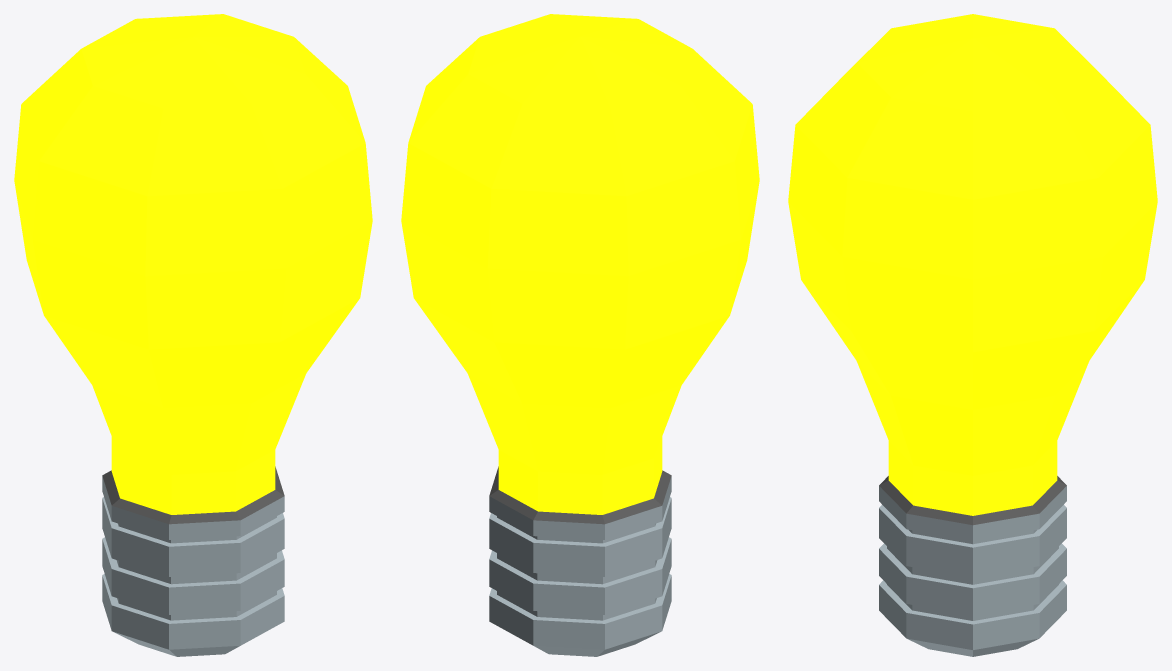
File: bulb_on.glb
3 renders of one model, left to right at view 1: azimuth 30°, elevation 25°; view 2: azimuth 150°, elevation 25°; view 3: azimuth 270°, elevation 25°, orthographic.
Parts seen in each view (by area): view 1: Light_bulb_01_Circle.008; view 2: Light_bulb_01_Circle.008; view 3: Light_bulb_01_Circle.008.
Part boxes in pixels (<box>): Light_bulb_01_Circle.008: <box>14,14,372,656</box>; Light_bulb_01_Circle.008: <box>401,14,759,656</box>; Light_bulb_01_Circle.008: <box>788,14,1157,656</box>.
Bounding box in the file's own units: 0.2294 × 0.4174 × 0.2294.
